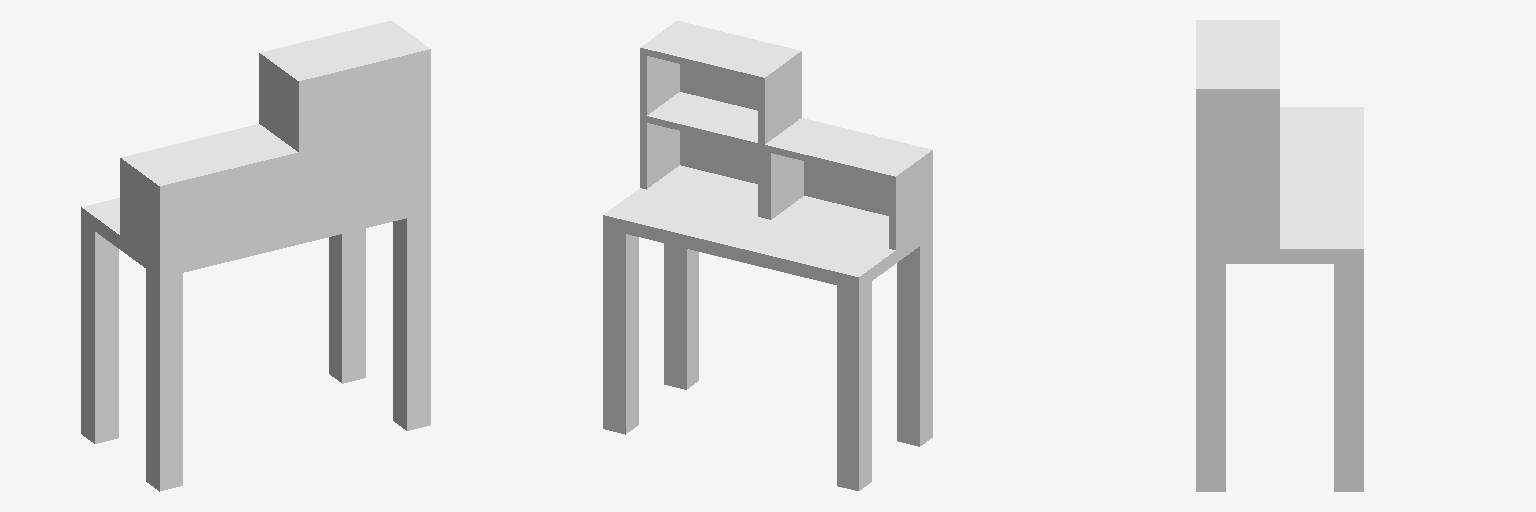
robot.urdf — table:
<?xml version="1.0" ?>
<robot name="table">
 <link name="baseLink">
   <contact>
     <lateral_friction value="0.5"/>
   </contact>
   <inertial>
     <origin rpy="0 0 0" xyz="0.425016 0.151115 0.615396"/>
      <mass value="1.0"/>
      <inertia ixx="0.003734" ixy="0.000094" ixz="-0.000492" iyy="0.006571" iyz="0.000494" izz="0.004455"/>
   </inertial>
   <visual>
     <origin rpy="0 0 0" xyz="0 0 0"/>
     <geometry>
       <mesh filename="table.obj" scale="1.0 1.0 1.0"/>
     </geometry>
      <material name="white">
       <color rgba="1 1 1 1"/>
     </material>
   </visual>
   <collision>
     <origin rpy="0 0 0" xyz="0 0 0"/>
     <geometry>
       <mesh filename="table_vhacd2.obj" scale="1.0 1.0 1.0"/>
     </geometry>
   </collision>
 </link>
</robot>

--- Render facts (derived) ---
3 views of the same robot in one strip: view 1: azimuth 30°, elevation 25°; view 2: azimuth 150°, elevation 25°; view 3: azimuth 270°, elevation 25° (orthographic).
Robot: table — 1 links, 0 joints (none); root link baseLink; default pose: all joints at 0.
Links seen in each view (by area): view 1: baseLink; view 2: baseLink; view 3: baseLink.
Boxes of the visible links, x1=… form: baseLink: x1=81, y1=21, x2=430, y2=491; baseLink: x1=603, y1=21, x2=932, y2=490; baseLink: x1=1196, y1=20, x2=1363, y2=491.
Size in the robot's own frame: 0.8 by 0.4 by 1.06 metres.
1 mesh visuals loaded from 1 distinct referenced files (1 OBJ).